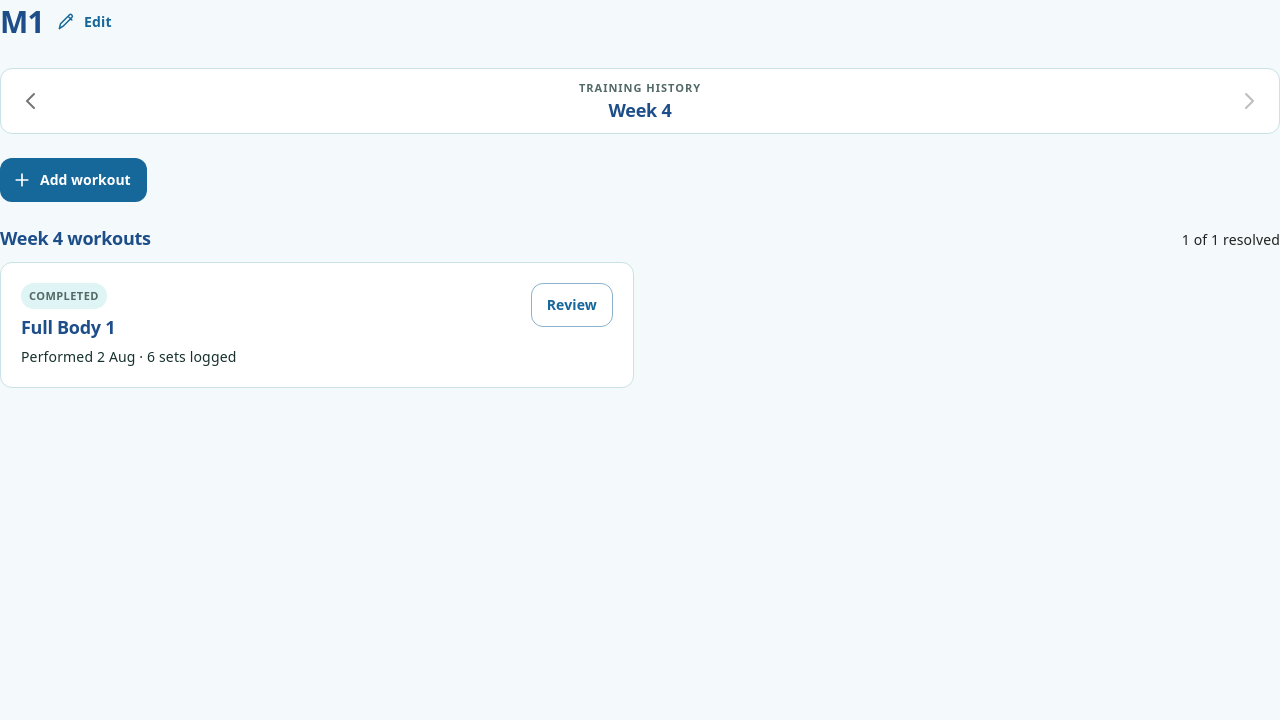
it: training iteration 1 pages › offers the same top Add workout action for the week after a resolved plan
Click the button "Add workout". click: (73, 180)
box: [0,158,147,202]
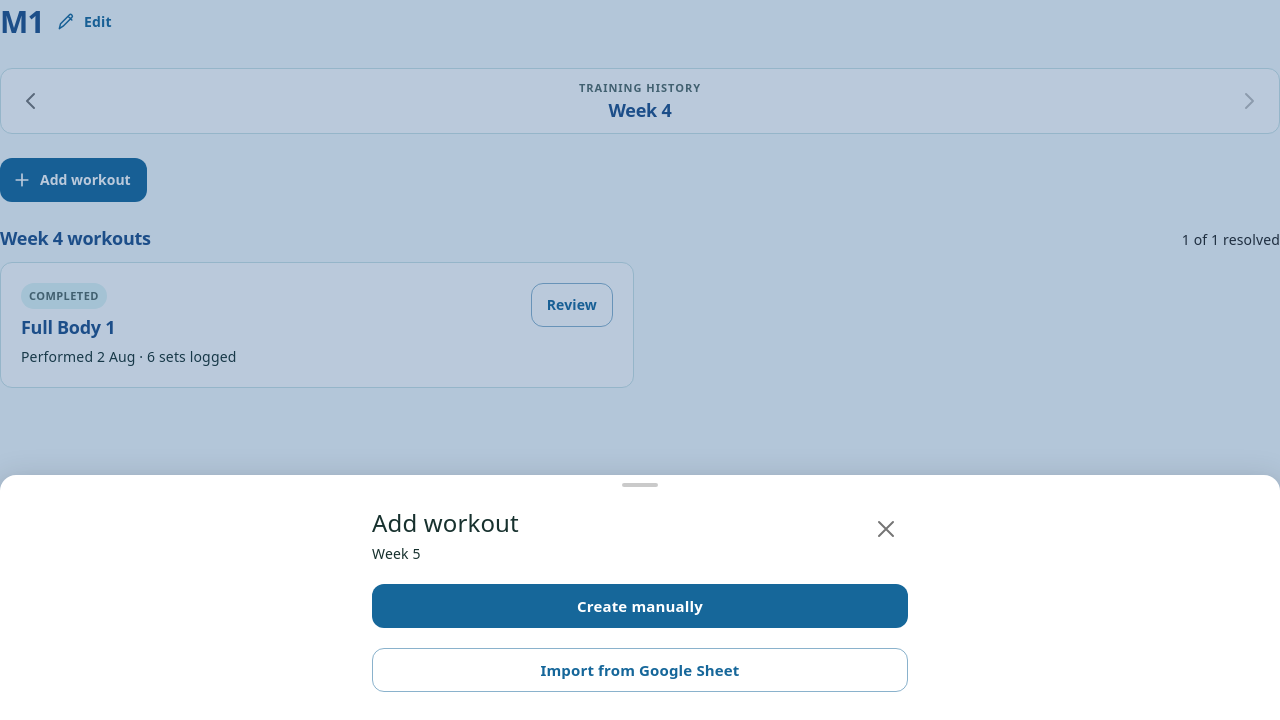
expect the dialog "Add workout" is shown: met, box [0,475,1279,719]
expect the text "Week 5" is shown: met, box [372,544,421,563]
